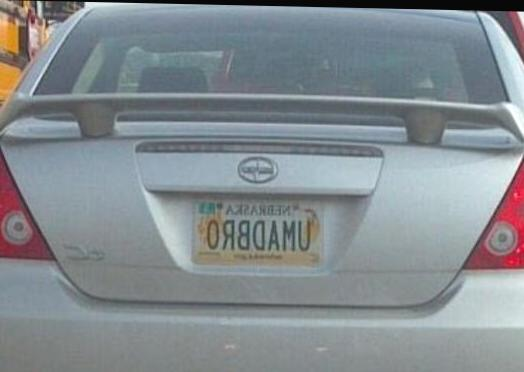License_Plate: (186, 190, 328, 274)
